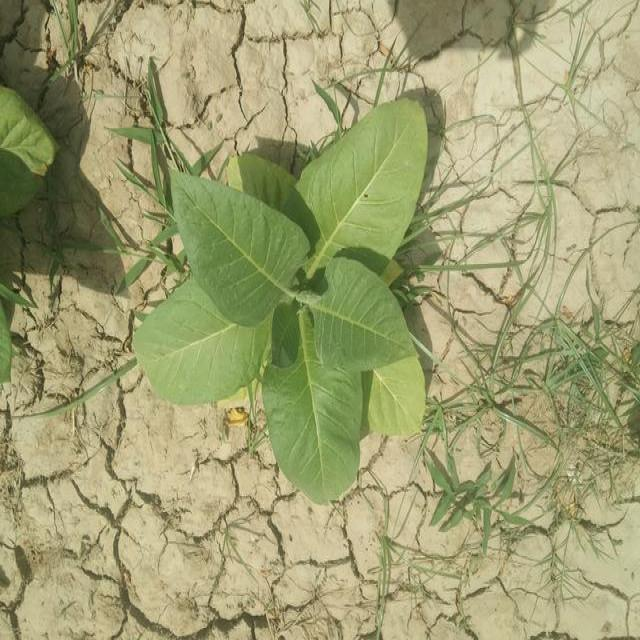crop: (135, 99, 466, 504), (0, 86, 55, 215)
